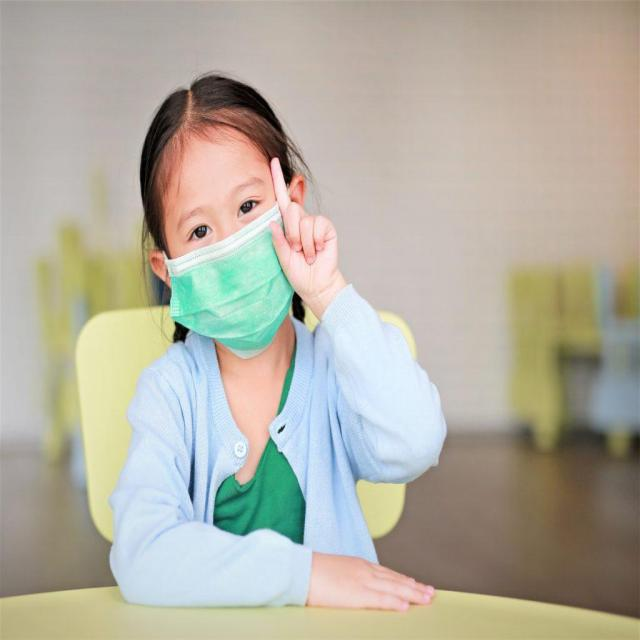face: (124, 64, 318, 378)
